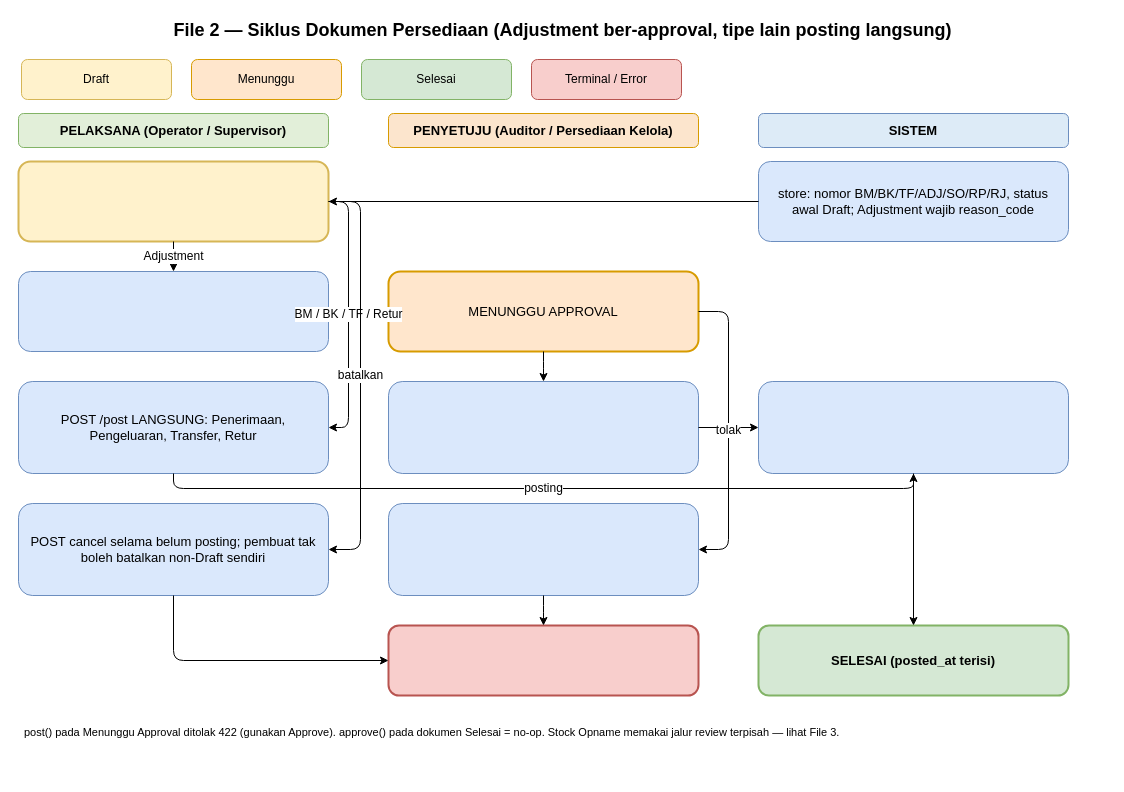
This 1124x792 diagram has some shape labels left out. The centre of each missing label's shape, as x and y in pixels:
"DIBATALKAN (terminal)" goes at point (543, 660).
"DRAFT — dibuat dan masih bisa diedit" goes at point (173, 201).
"POST approve — SoD requester; pemutus canReview ATAU Kelola; posting otomatis" goes at point (543, 427).
"POST reject dari Menunggu ke Dibatalkan" goes at point (543, 549).
"POST submit-approval — KHUSUS Stock Adjustment dari Draft" goes at point (173, 311).
"Service post: movement + rebuild ledger; 422 bila stok tak cukup" goes at point (913, 427).
